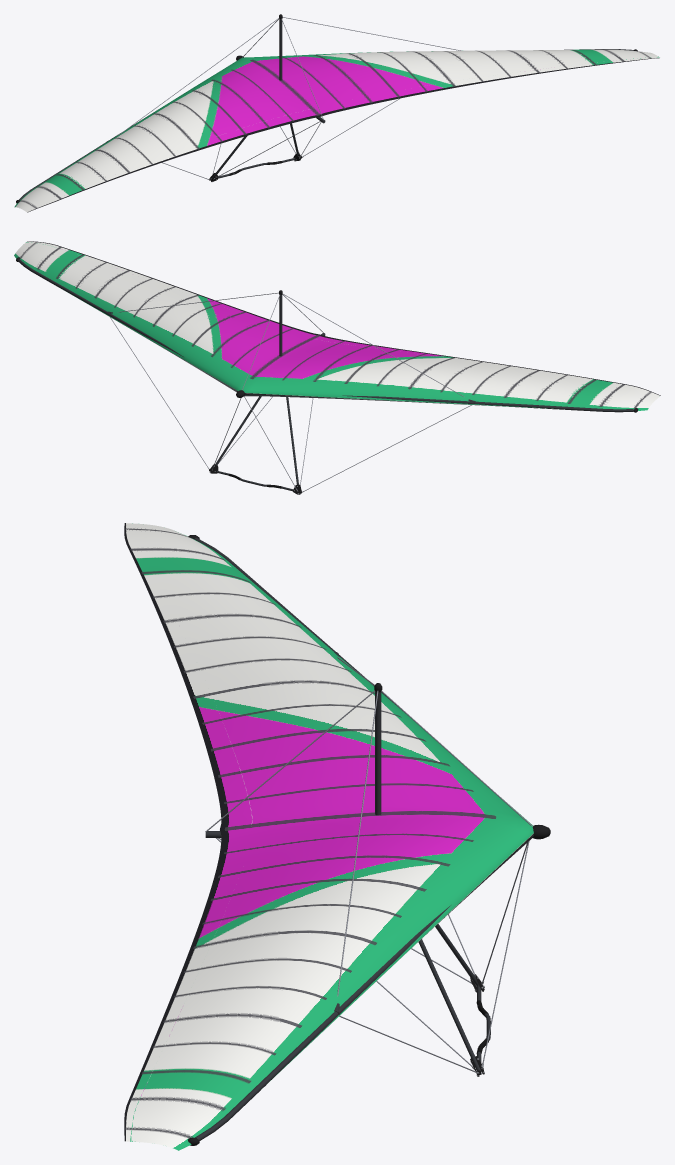
Rendered from glider_bautek_fizz.glb.
3 views of the same model, one above another, from view 1: azimuth 30°, elevation 25°; view 2: azimuth 150°, elevation 25°; view 3: azimuth 270°, elevation 25° (orthographic). The views are drawn at different scales.
Parts seen in each view (by area): view 1: Sail, Frame, ControlFrame; view 2: Sail, Frame, ControlFrame; view 3: Sail, Frame, ControlFrame.
Part boxes in pixels (left/top/right/bottom): Sail: left=14, top=49, right=660, bottom=212; Frame: left=16, top=14, right=637, bottom=203; ControlFrame: left=162, top=98, right=400, bottom=181; Sail: left=14, top=241, right=660, bottom=410; Frame: left=16, top=257, right=638, bottom=412; ControlFrame: left=110, top=317, right=471, bottom=494; Sail: left=124, top=523, right=533, bottom=1150; Frame: left=188, top=535, right=550, bottom=1145; ControlFrame: left=216, top=838, right=529, bottom=1076.
Size of the model in its own units: 10.41 by 2.76 by 3.04.
8 materials, 1 textured.
